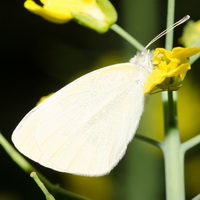insect: (12, 47, 199, 175)
